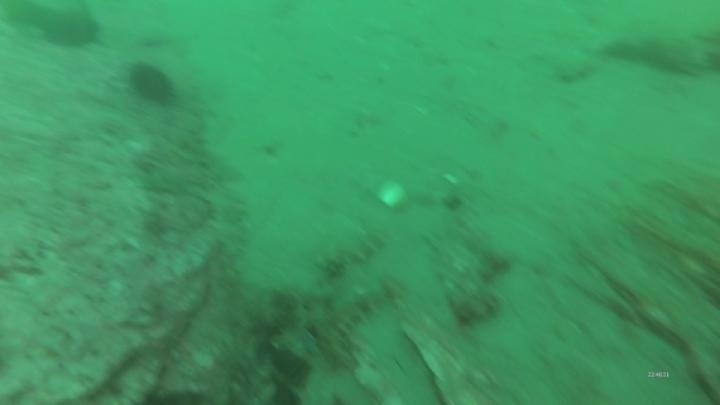echinus: (40, 10, 103, 53), (126, 60, 178, 108)
holothurian: (308, 275, 399, 369), (312, 223, 388, 281), (202, 183, 253, 269)
